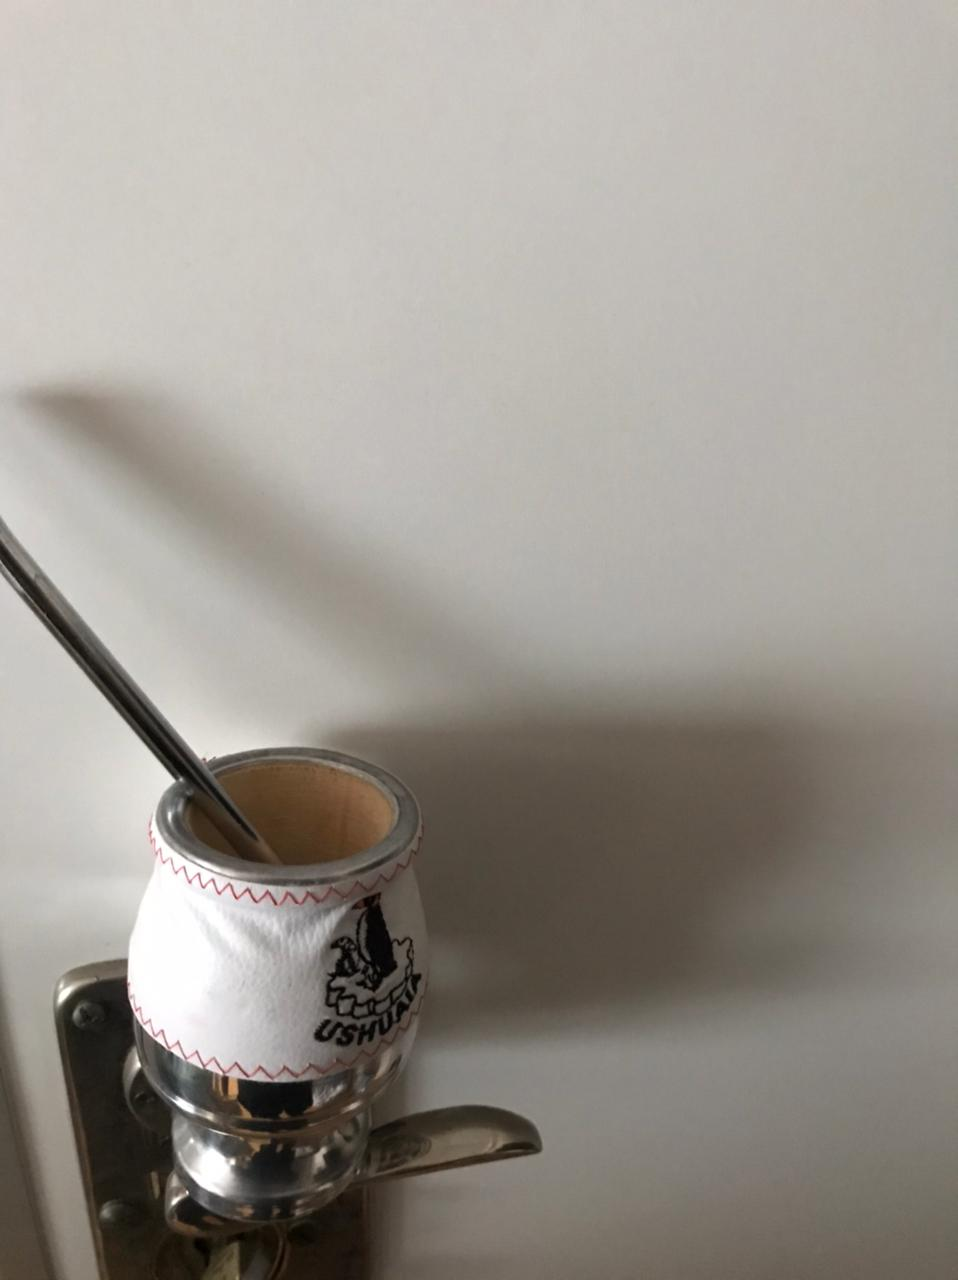mate: (1, 501, 474, 1229)
